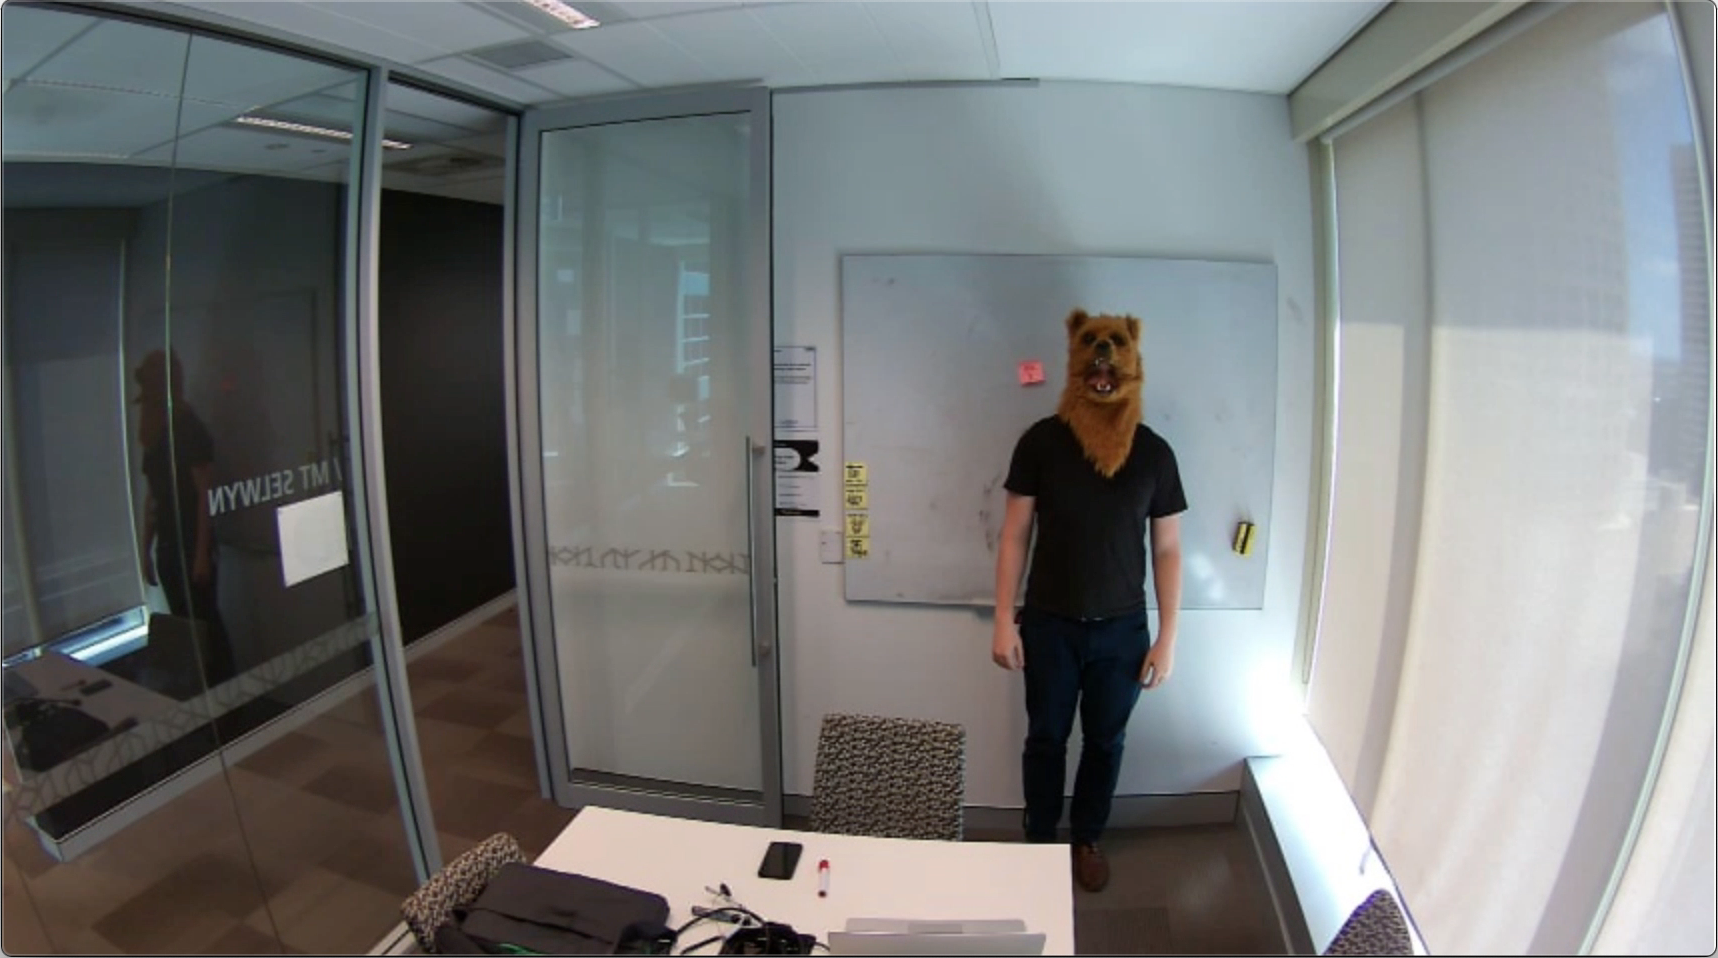Bear: (1060, 303, 1147, 422)
